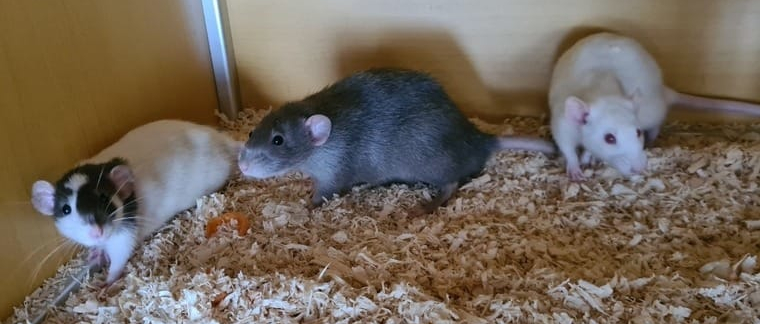rat: (230, 57, 510, 225), (19, 105, 235, 292), (534, 22, 692, 200)
